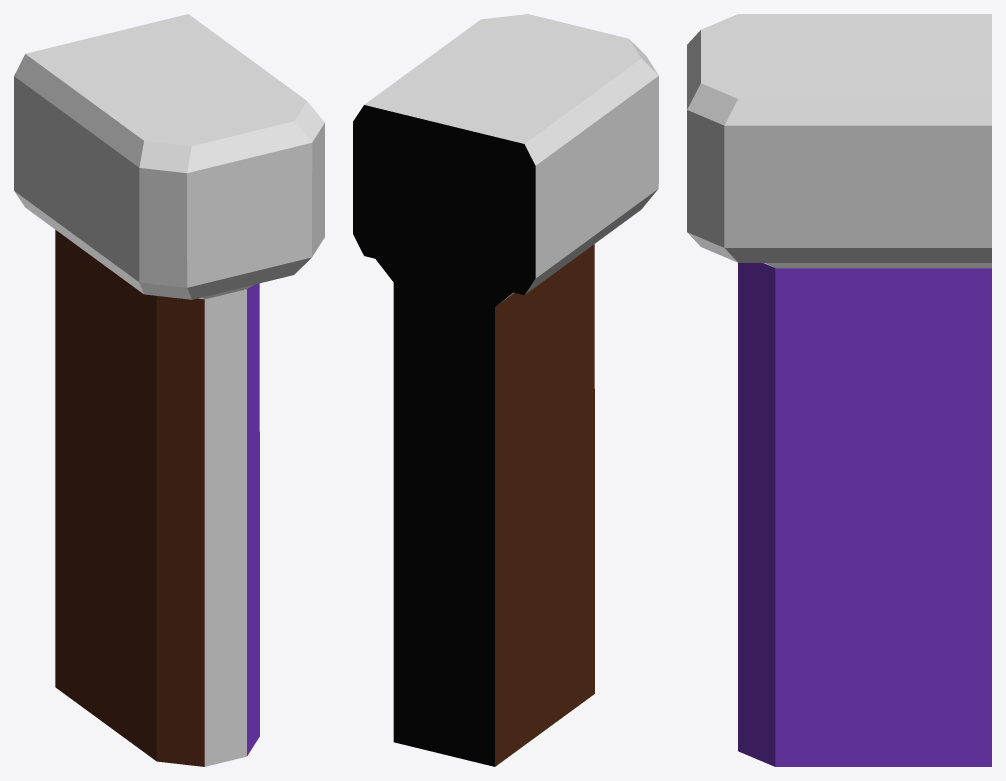
File: Wall End Diff.fbx
The picture shows the model from 3 angles, left to right: view 1: azimuth 30°, elevation 25°; view 2: azimuth 150°, elevation 25°; view 3: azimuth 270°, elevation 25°; orthographic projection. The views are drawn at different scales.
Visible parts, largest first — view 1: Wall End Diff; view 2: Wall End Diff; view 3: Wall End Diff.
Part boxes in pixels (bbox=[...]): Wall End Diff: bbox=[14, 14, 324, 766]; Wall End Diff: bbox=[353, 14, 658, 766]; Wall End Diff: bbox=[687, 14, 991, 766].
Size of the model in its own units: 60 by 198 by 80.
